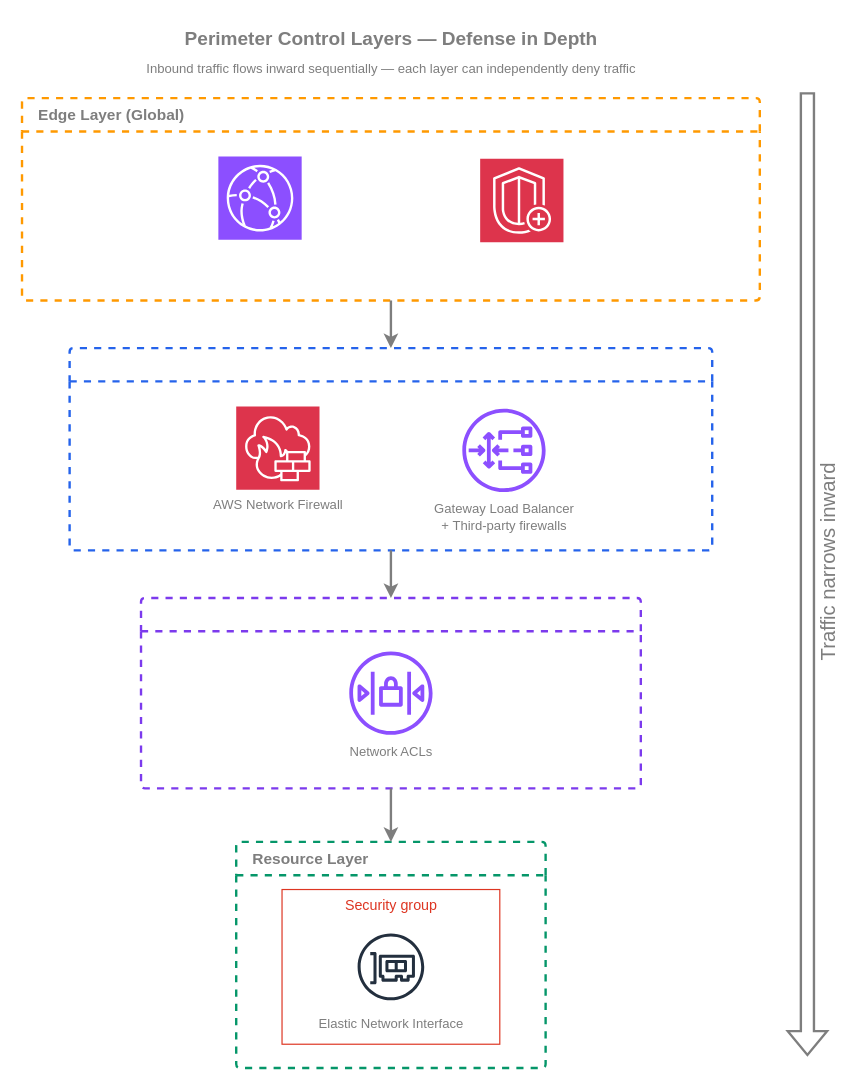
This 863x1089 diagram has some shape labels left out. Here are the shapes that lost their labels. From the top down, the box of each, then its label:
(217, 155, 302, 240): CloudFront + AWS WAF
(479, 158, 563, 242): AWS Shield (Standard + Advanced)
(68, 346, 713, 551): Inspection Layer
(139, 596, 641, 789): Subnet Layer
